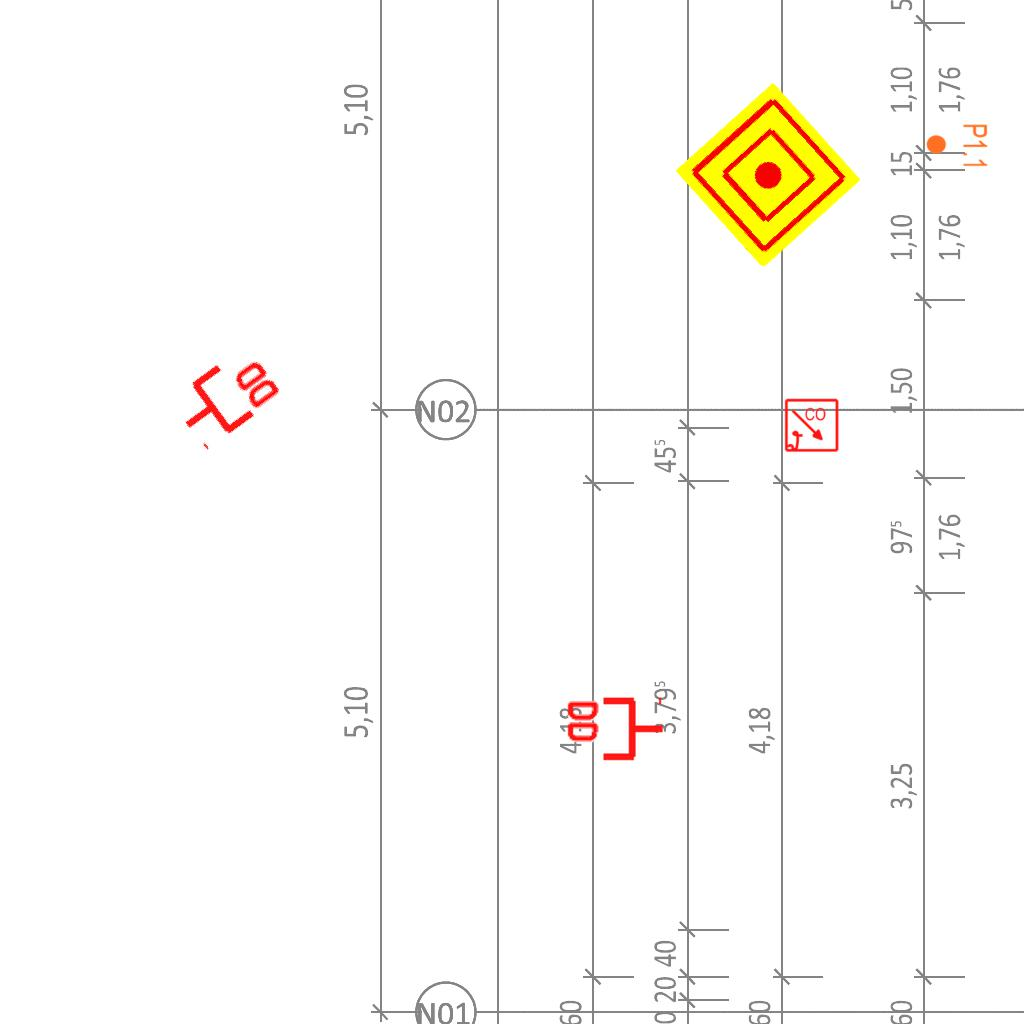Datenanschluss_zweifach: (163, 337, 288, 454), (563, 696, 666, 765)
Downlight_LED_Einbauleuchten_Flur: (925, 123, 989, 169)
NAM-Nichtautomatischer_Melder: (674, 81, 862, 269)
ROA_Rauchmelder_optisch_mit_Signalgeber_(Sockelsirene): (784, 398, 840, 454)
